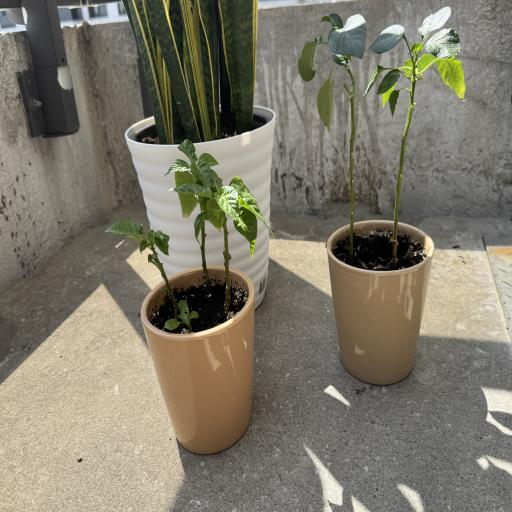Plant Pot: (126, 109, 276, 310), (142, 265, 256, 457), (327, 218, 434, 384)
